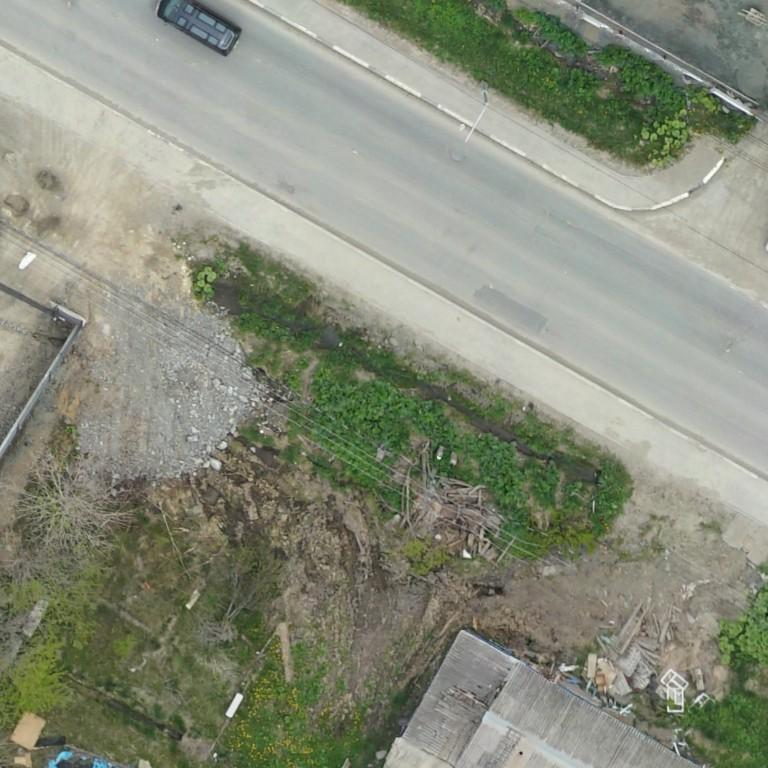hogweed: (308, 369, 558, 516), (534, 14, 583, 53)
